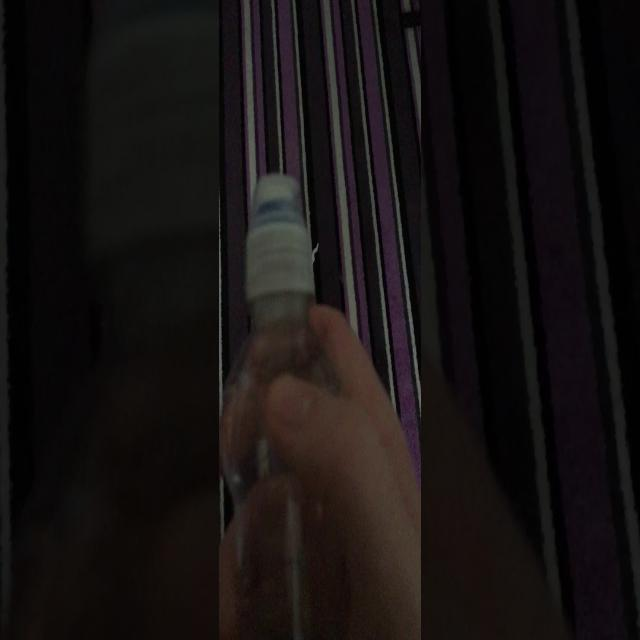Plastic: (219, 173, 350, 640)
